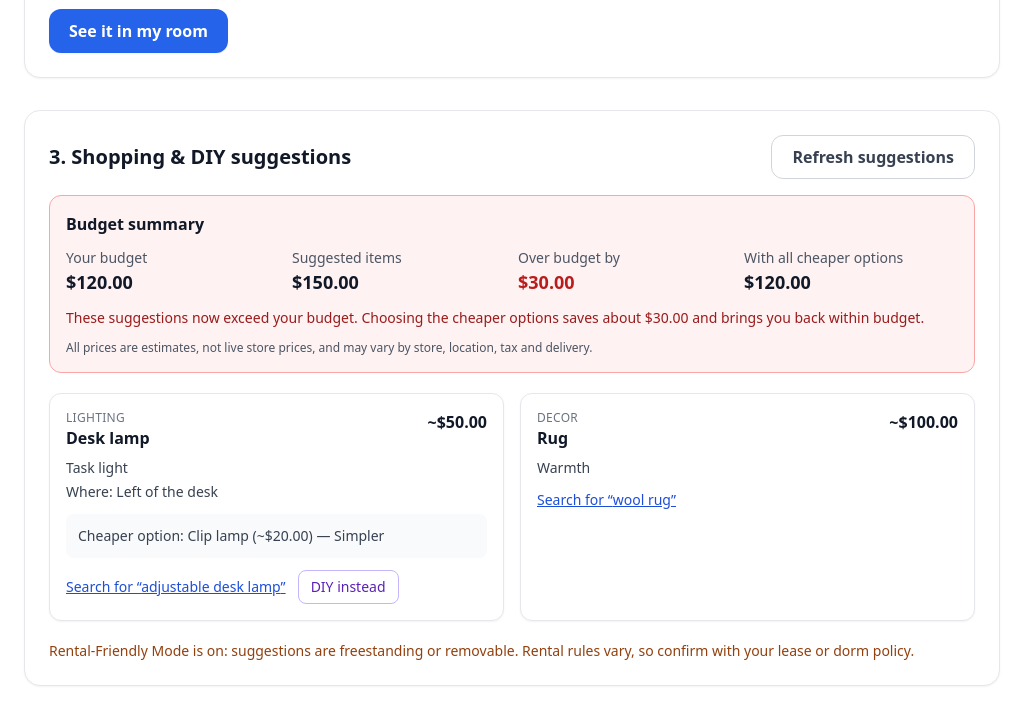
Test: Design workspace (MVP Features 6-10) › shows suggestions, warns when they exceed the current budget, and loads a DIY guide
This screenshot has width=1024, height=726.
(page scrolled)
Expected: the text "Left of the desk" is shown, [116,482,218,501]
Expected: the text "Cheaper option: Clip lamp (~$20.00) — Simpler" is shown, [66,514,487,558]
What coordinates should you click on to do the following:
click the button "DIY instead"
I would click on:
 (348, 587)
Its box is [298,570,398,604].
(page scrolled)
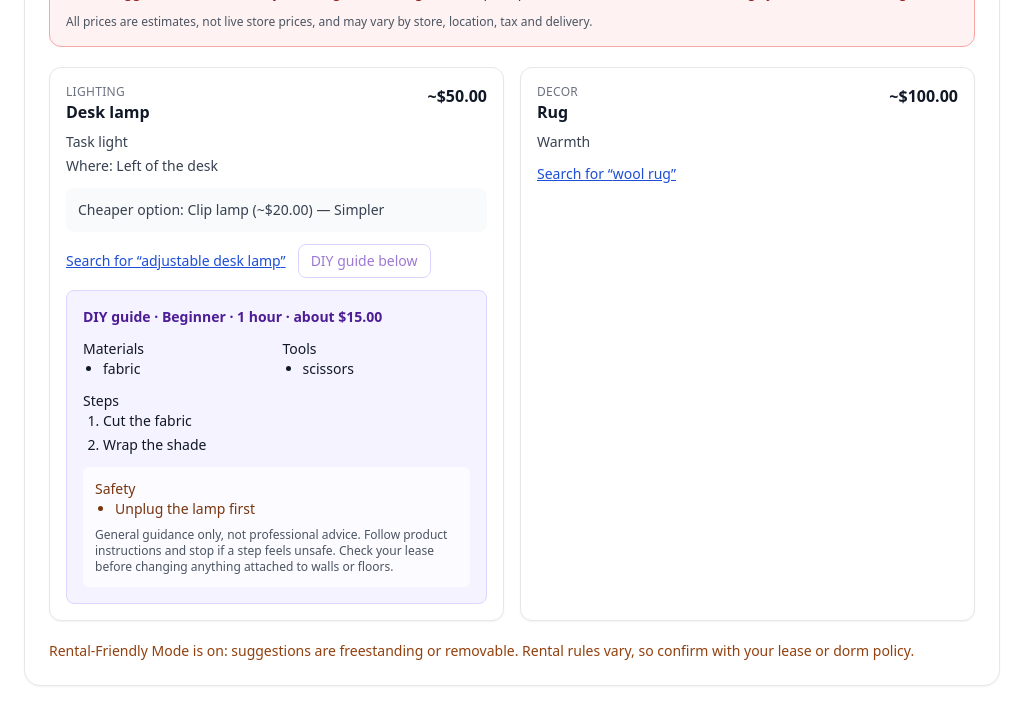
Result: the list item "Wrap the shade" is shown at [103,435,206,454]
Result: the list item "Unplug the lamp first" is shown at [115,499,255,518]
